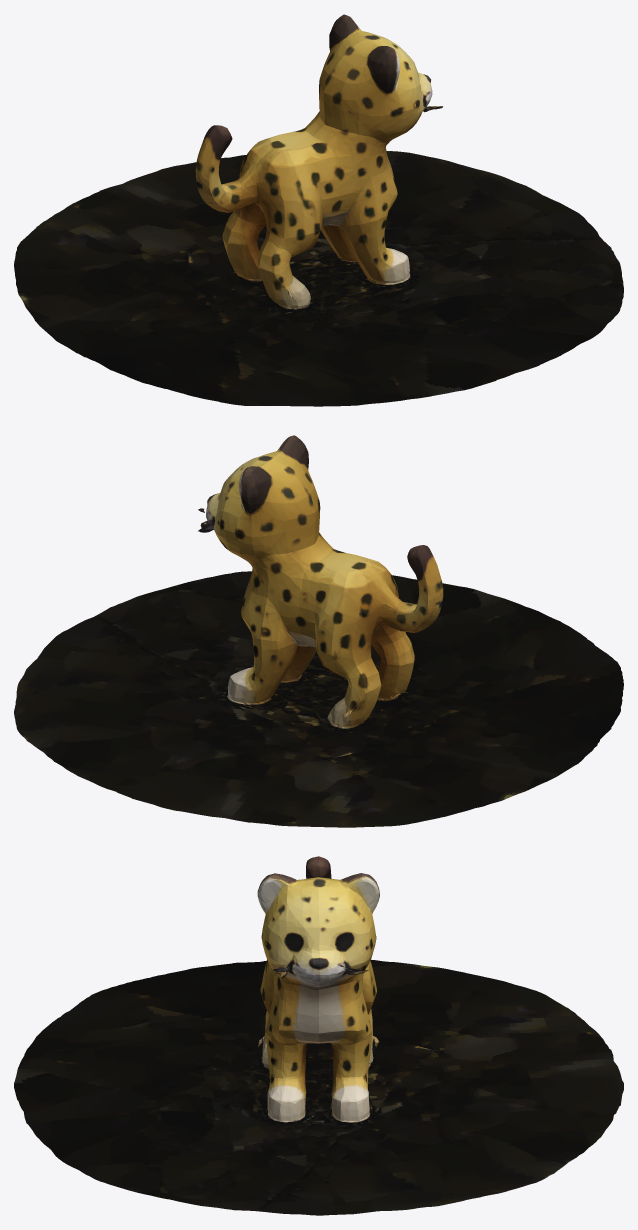
The model's file is model-pick-2.glb.
The picture shows the model from 3 angles, top to bottom: view 1: azimuth 30°, elevation 25°; view 2: azimuth 150°, elevation 25°; view 3: azimuth 270°, elevation 25°; orthographic projection.
Visible parts, largest first — view 1: geometry_0; view 2: geometry_0; view 3: geometry_0.
Part boxes in pixels (x1=…): geometry_0: x1=14, y1=14, x2=623, y2=406; geometry_0: x1=14, y1=435, x2=623, y2=827; geometry_0: x1=14, y1=856, x2=623, y2=1215.
Bounding box in the file's own units: 0.9994 × 0.4305 × 0.9993.
Materials: 1 (1 with a texture image).
